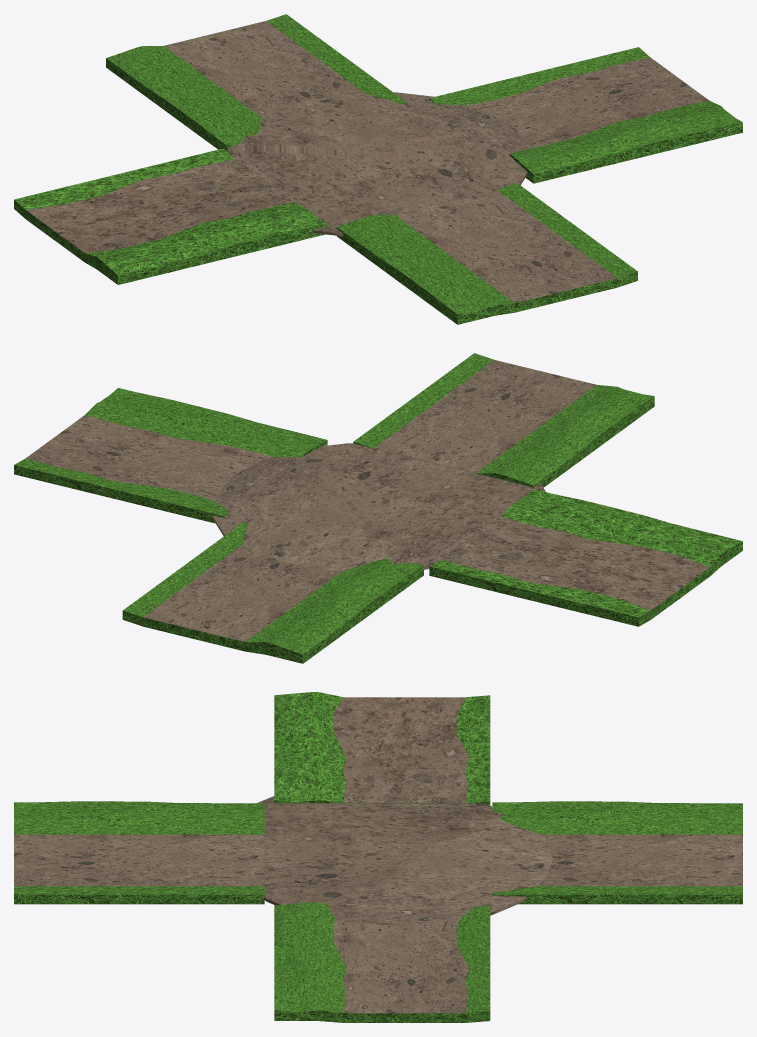
The model's file is roundabout 1.fbx.
The picture shows the model from 3 angles, top to bottom: view 1: azimuth 30°, elevation 25°; view 2: azimuth 150°, elevation 25°; view 3: azimuth 270°, elevation 25°; orthographic projection. The views are drawn at different scales.
Visible parts, largest first — view 1: pCylinder1, pCube1, pCube2, pCube4, pCube3; view 2: pCylinder1, pCube2, pCube1, pCube4, pCube3; view 3: pCylinder1, pCube1, pCube2, pCube4, pCube3.
Boxes of the visible parts, left/top/right/bottom form: pCylinder1: left=228, top=92, right=529, bottom=236; pCube1: left=336, top=183, right=637, bottom=324; pCube2: left=14, top=148, right=327, bottom=284; pCube4: left=429, top=47, right=742, bottom=183; pCube3: left=106, top=14, right=406, bottom=151; pCylinder1: left=212, top=443, right=545, bottom=570; pCube2: left=429, top=489, right=742, bottom=626; pCube1: left=353, top=353, right=654, bottom=487; pCube4: left=14, top=388, right=327, bottom=523; pCube3: left=122, top=522, right=423, bottom=663; pCylinder1: left=257, top=796, right=552, bottom=925; pCube1: left=14, top=801, right=264, bottom=904; pCube2: left=274, top=692, right=490, bottom=805; pCube4: left=274, top=902, right=490, bottom=1022; pCube3: left=492, top=801, right=742, bottom=904.
Size of the model in its own units: 34.93 by 0.9243 by 34.04.
Materials: 2 (2 with a texture image).
